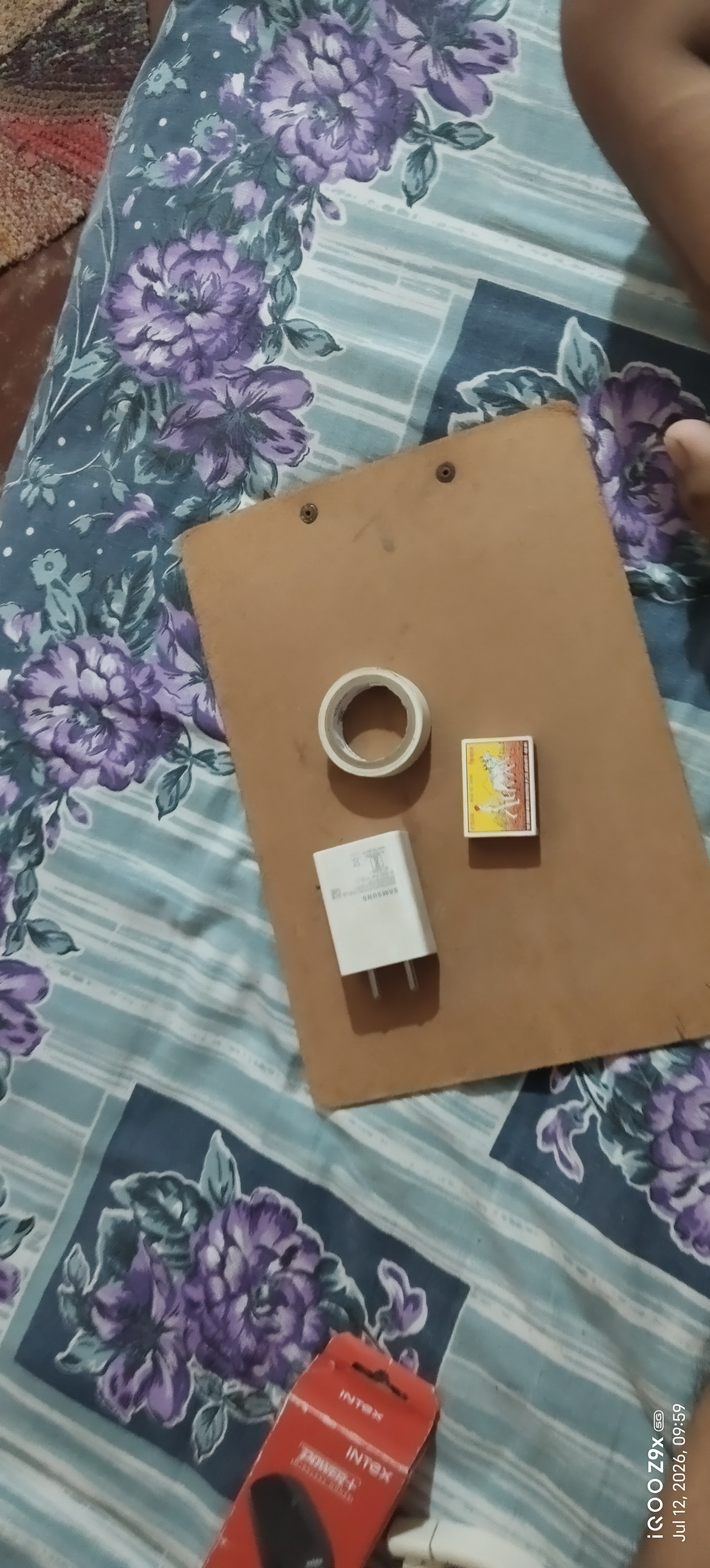charger: (301, 827, 450, 1004)
matchbox: (456, 729, 548, 849)
tape_roll: (310, 660, 441, 787)
